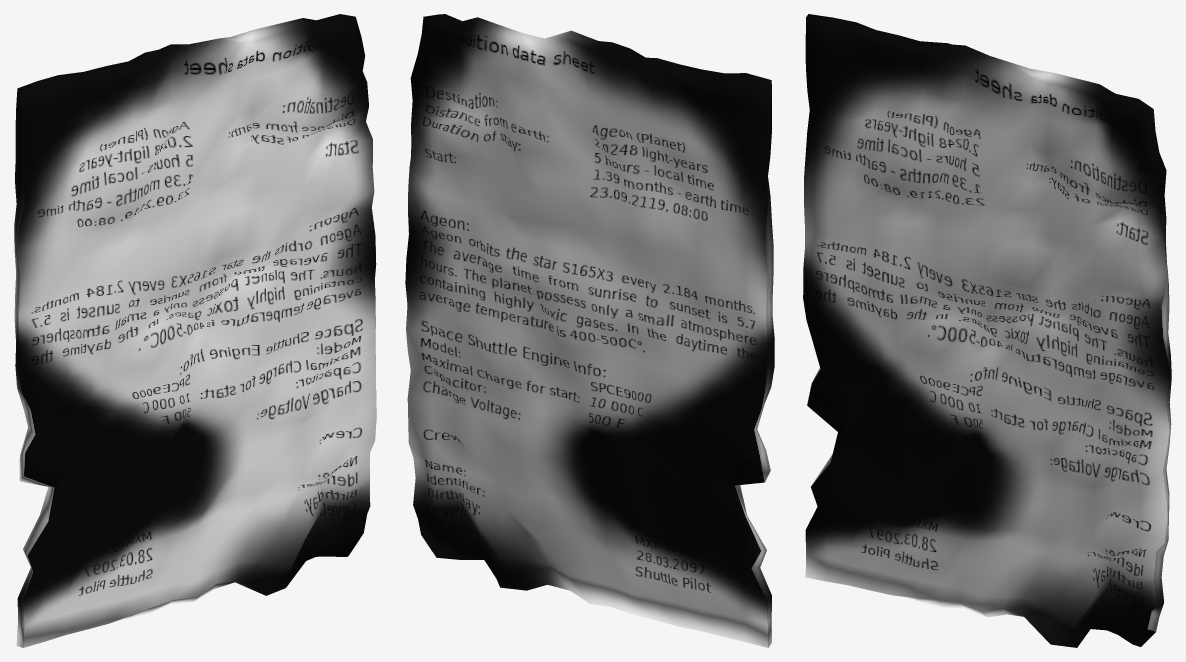
File: document.fbx
The picture shows the model from 3 angles, left to right: view 1: azimuth 30°, elevation 25°; view 2: azimuth 150°, elevation 25°; view 3: azimuth 330°, elevation 25°; orthographic projection.
Parts seen in each view (by area): view 1: Plane; view 2: Plane; view 3: Plane.
Part boxes in pixels (left/top/right/bottom): Plane: left=14, top=14, right=376, bottom=647; Plane: left=405, top=14, right=774, bottom=647; Plane: left=803, top=14, right=1171, bottom=647.
Bounding box in the file's own units: 406 × 613 × 28.52.
Materials: 1 (1 with a texture image).
